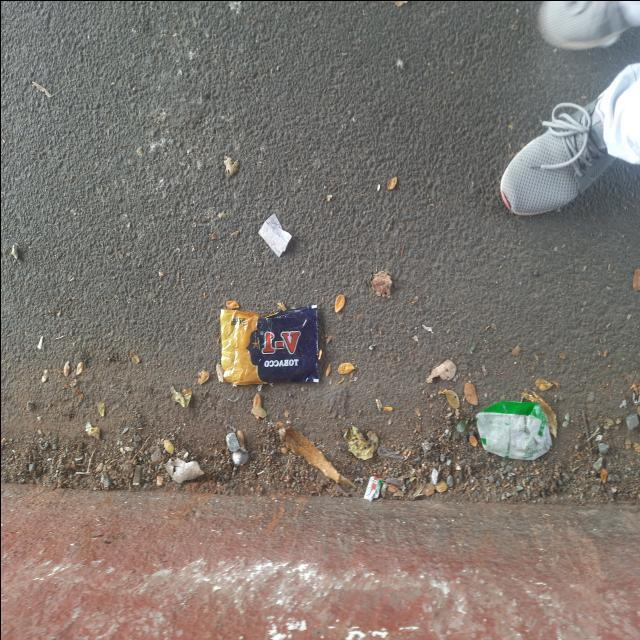Background: (0, 2, 640, 505)
Plastic_wraper: (220, 305, 318, 383), (475, 402, 550, 458)
